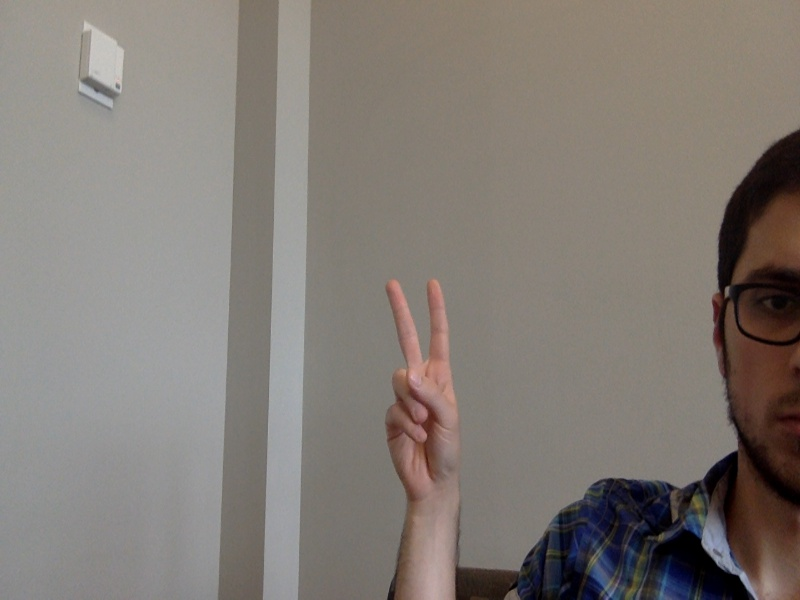2-hand: (383, 279, 467, 498)
